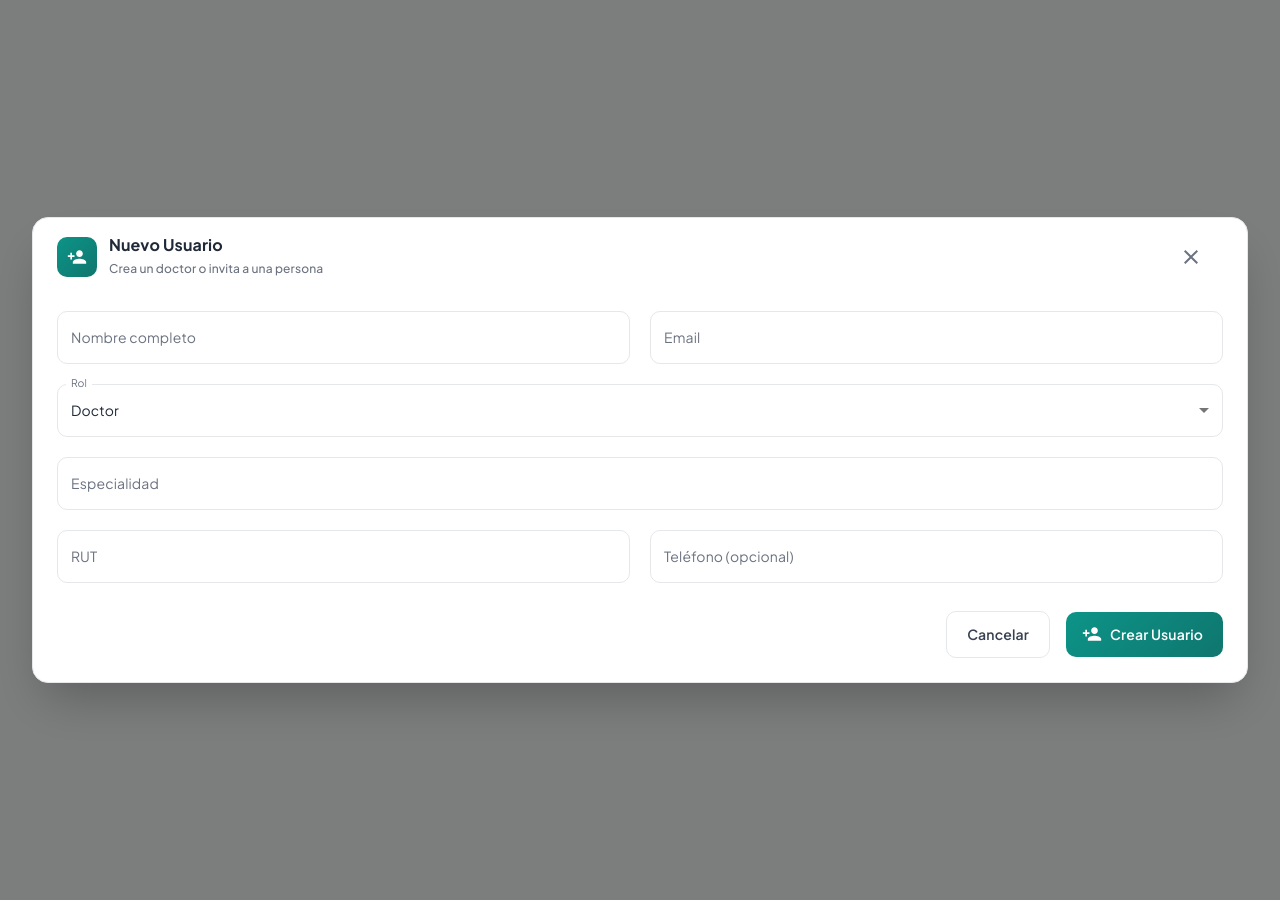
Test case: UserFormDialog › shows validation errors when submitting an empty form
Click the button "Crear Usuario" at x=1144, y=634, box [1066,612,1223,657]
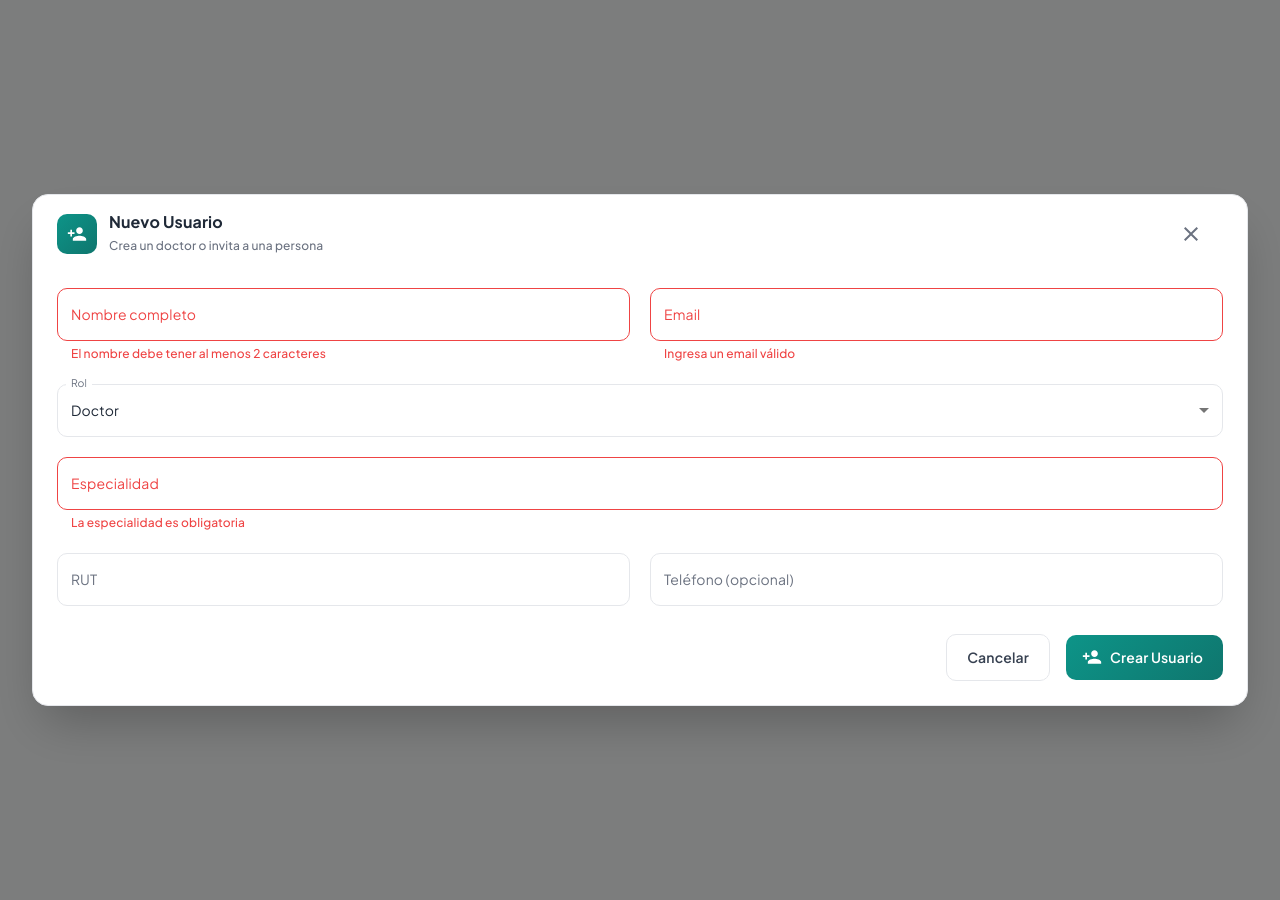
Now the text "El nombre debe tener al menos 2 caracteres" is shown, box [71,346,326,361]
Now the text "Ingresa un email válido" is shown, box [664,346,795,361]
Now the text "La especialidad es obligatoria" is shown, box [71,515,245,530]
